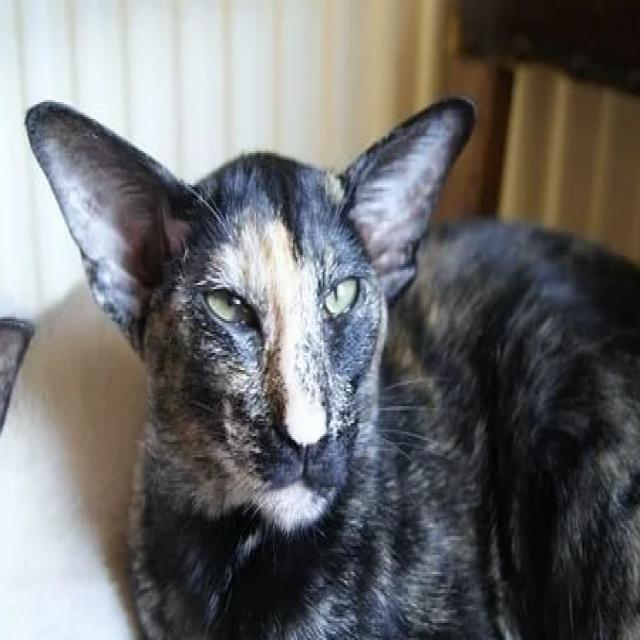Oriental: (20, 89, 640, 640)
